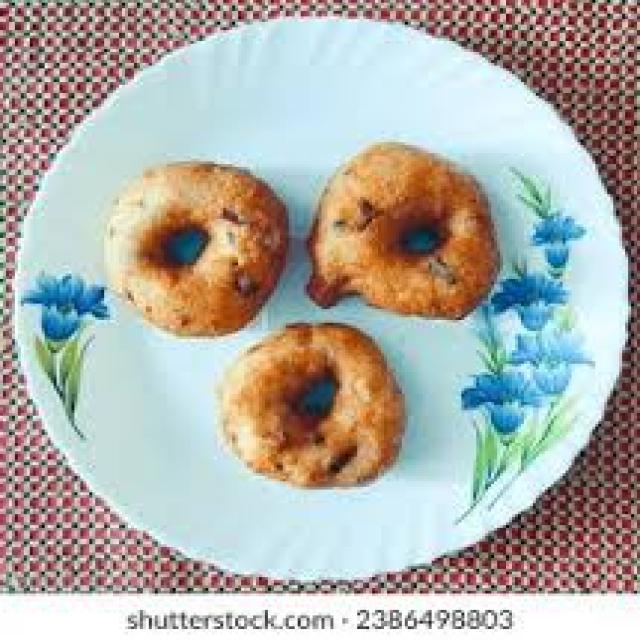MEDU VADA: (307, 142, 497, 317), (104, 167, 283, 334), (301, 375, 333, 416)
